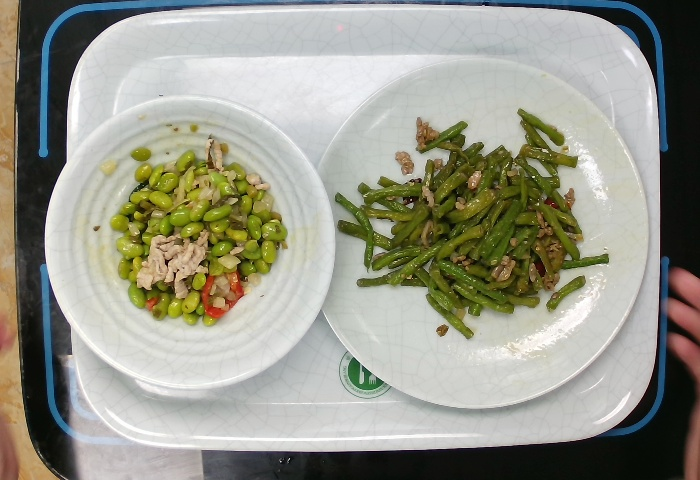JYsf-Da_Yuan_Pan: (312, 46, 656, 413)
JYsf-Xiao_Tang_Wan: (35, 89, 340, 399)
